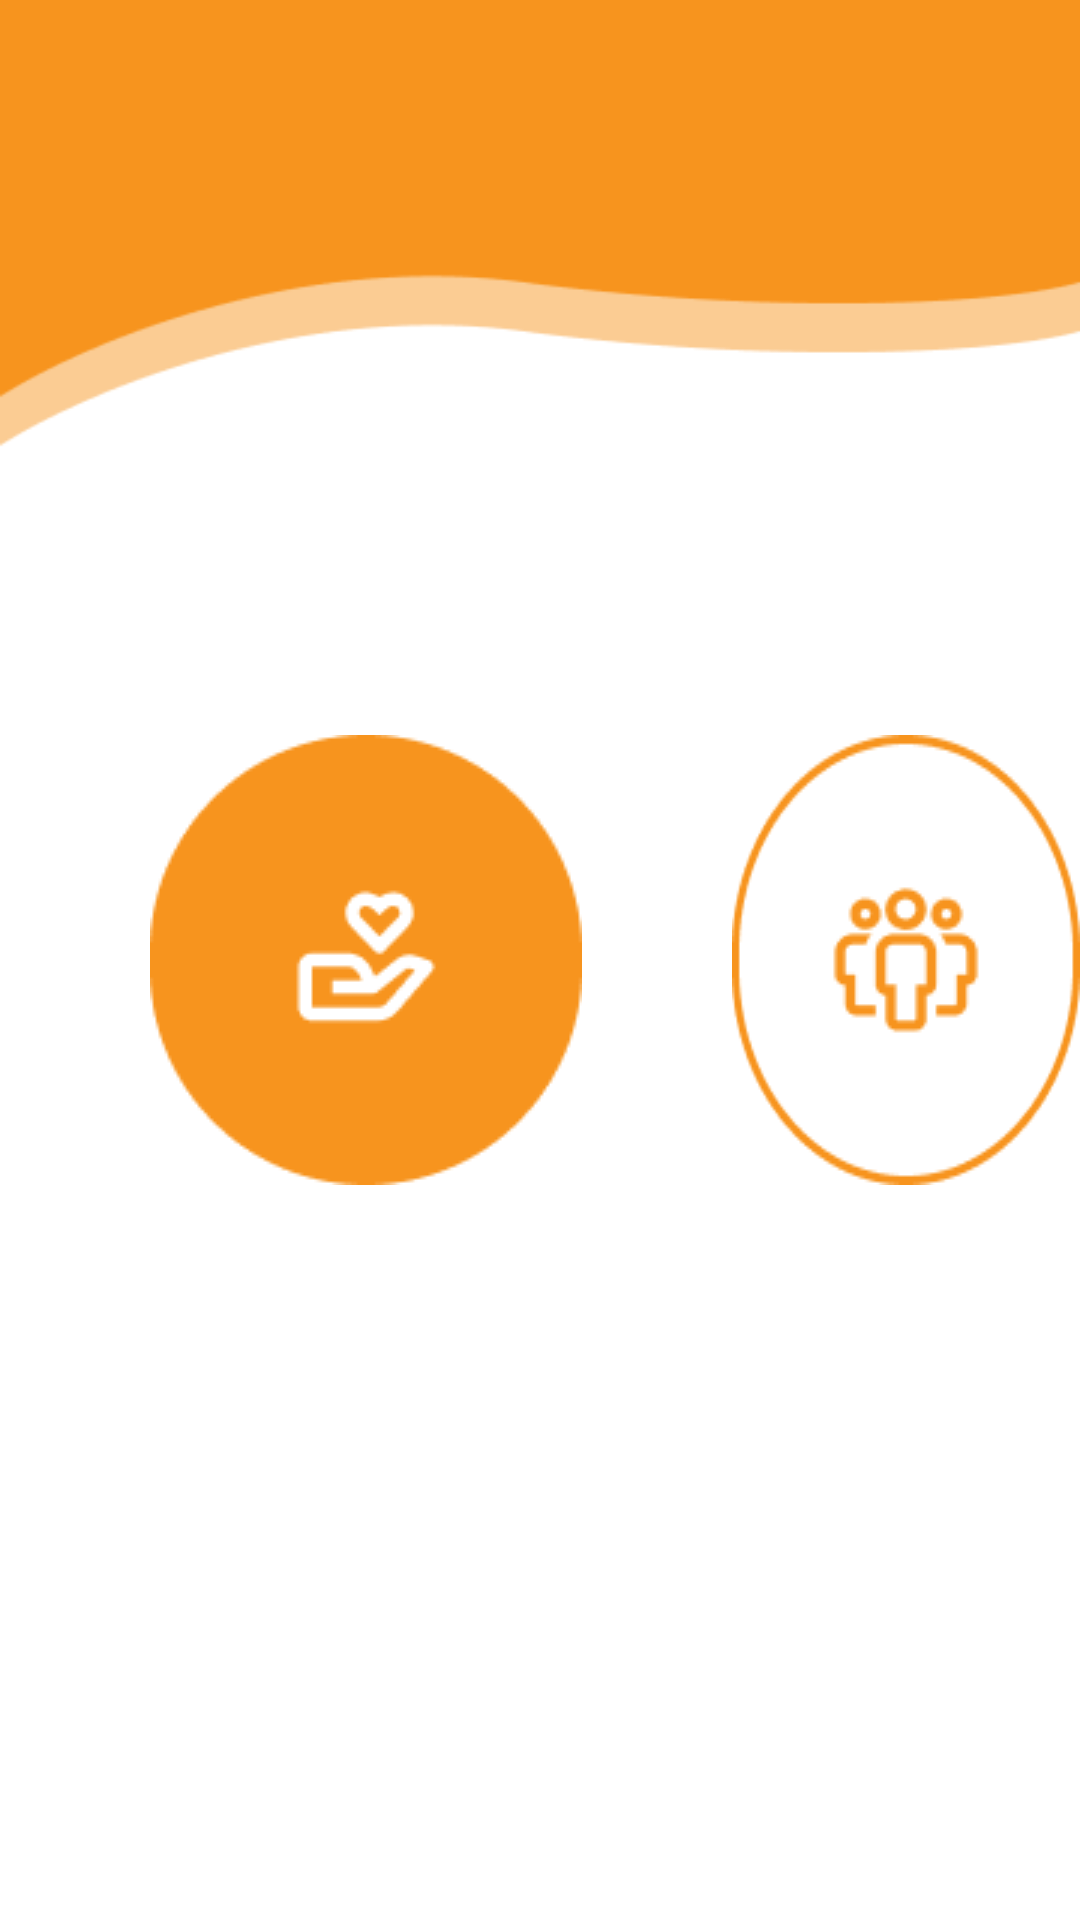

Named icons in this screenshot (1080 x 1920) and their centers, (x,y):
codicon organization: (906,960)
donate heart: (366,956)
